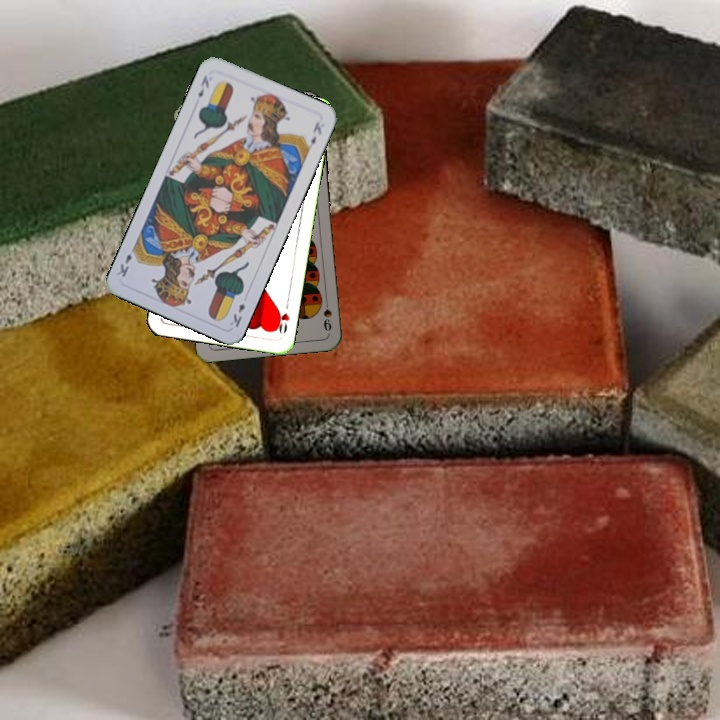EK: (225, 299, 247, 330), (194, 71, 212, 100)
HO: (271, 298, 292, 336)
S9: (319, 294, 334, 334)
